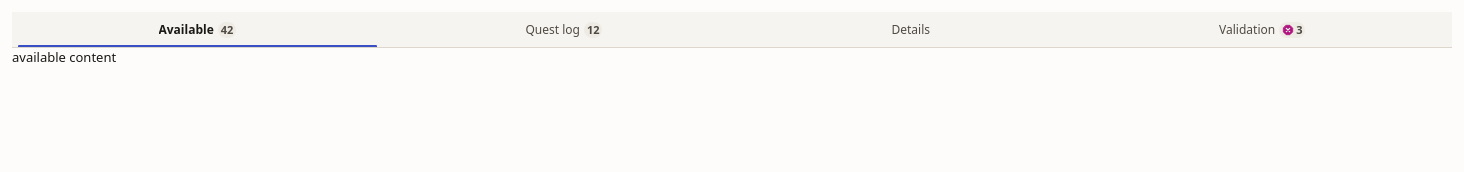
SidePanel › mounts only the active panel
The image size is (1464, 172).
Expected: the panel reads "available content", [12, 48, 116, 66]
Click the tab "Validation 3".
click(1262, 30)  # box [1075, 12, 1450, 47]
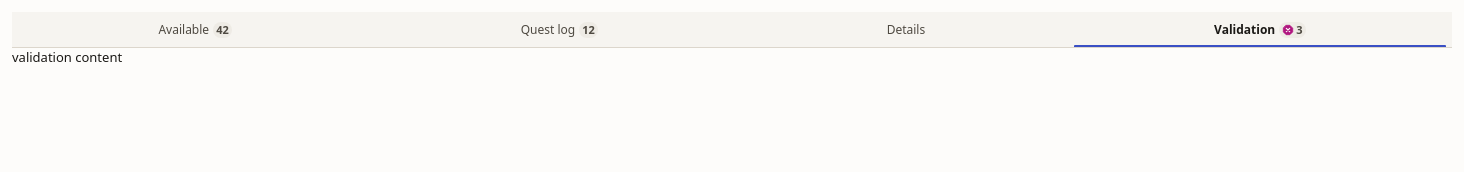
Expected: the panel reads "validation content", [12, 48, 122, 66]
Expected: the text "available content" is gone
